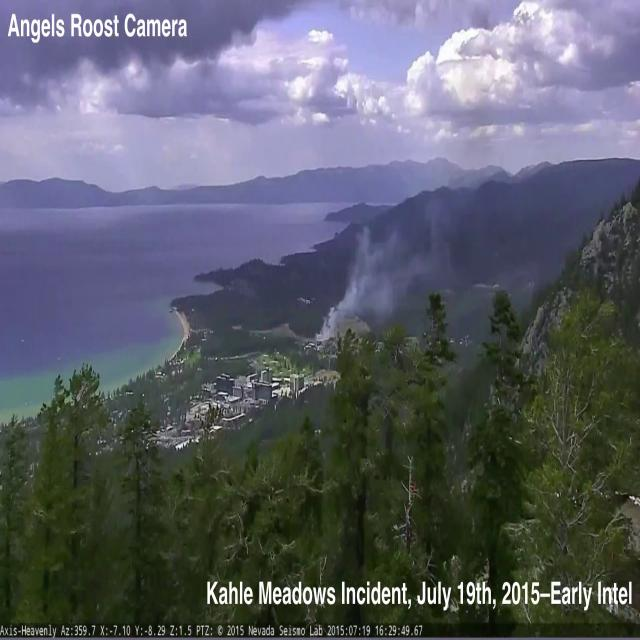smoke: (316, 184, 466, 342)
